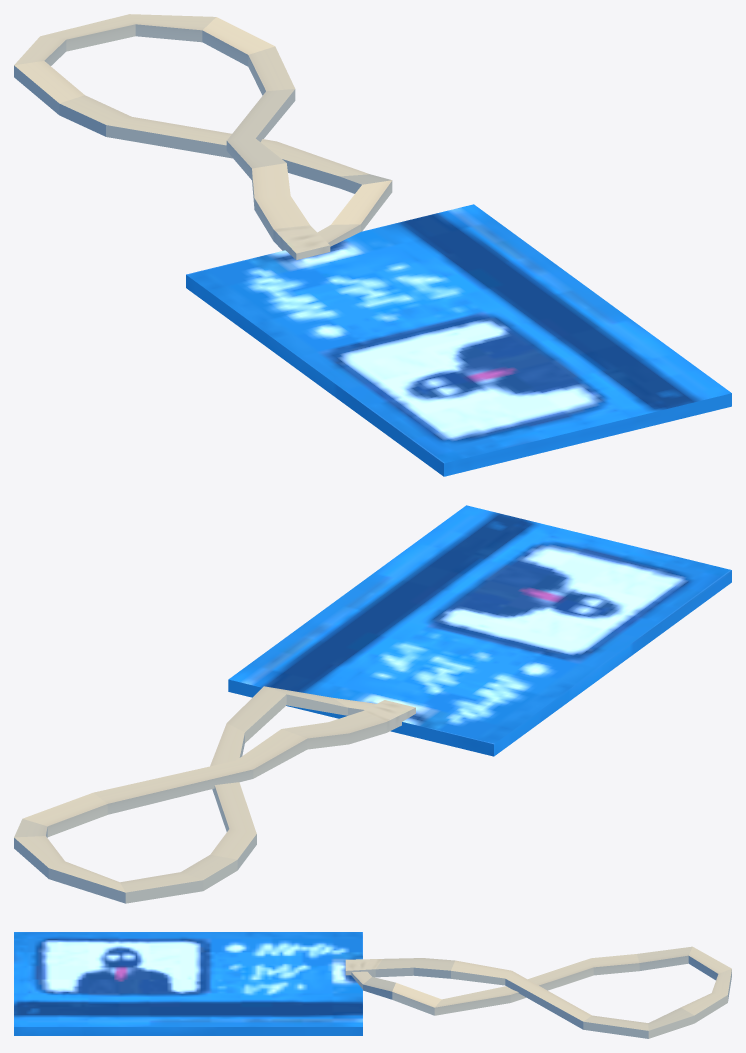
Rendered from lab_key.glb.
3 views of the same model, one above another, from view 1: azimuth 30°, elevation 25°; view 2: azimuth 150°, elevation 25°; view 3: azimuth 270°, elevation 25° (orthographic). The views are drawn at different scales.
Parts seen in each view (by area): view 1: View_4; view 2: View_4; view 3: View_4.
Boxes of the visible parts, x1,y1,x2,y2 form: View_4: (14,14,731,476); View_4: (14,505,731,903); View_4: (14,932,731,1038).
Size of the model in its own units: 0.1191 by 0.0141 by 0.3643.
Materials: 1 (1 with a texture image).
